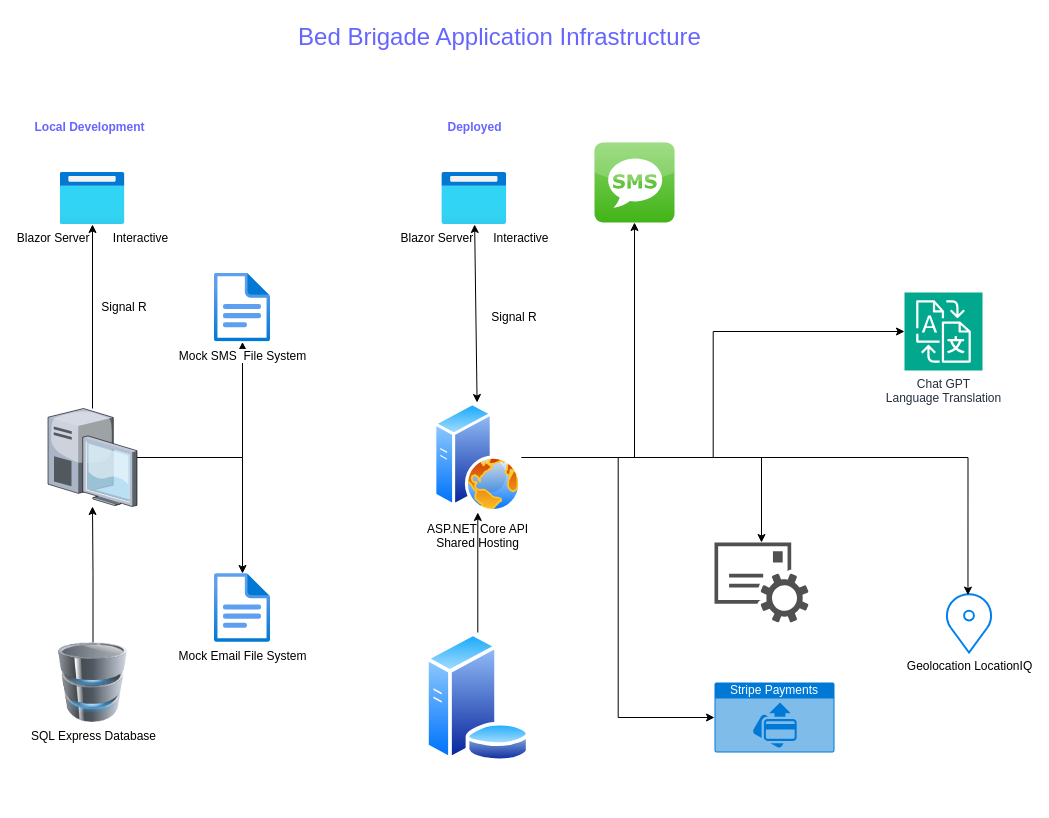
Some shapes in this 1049 by 818 pixel diagram are drawn without their labels. The shapes that lost their labels are listed below. From the top down, each one's centre as x and y in pixels, then its label:
the point at 634,182: Twilio SMS
the point at 92,457: Desktop
the point at 761,582: Email Service
the point at 477,697: MS SQL Database Server Shared Hosting
